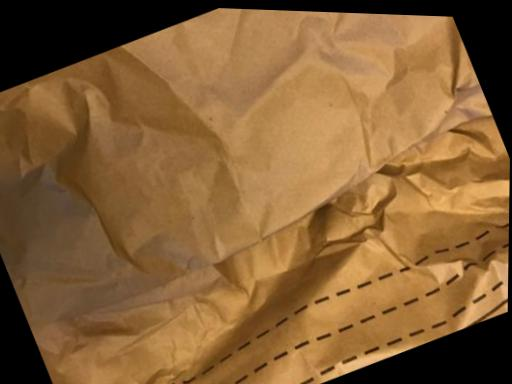paper: (0, 10, 508, 383)
